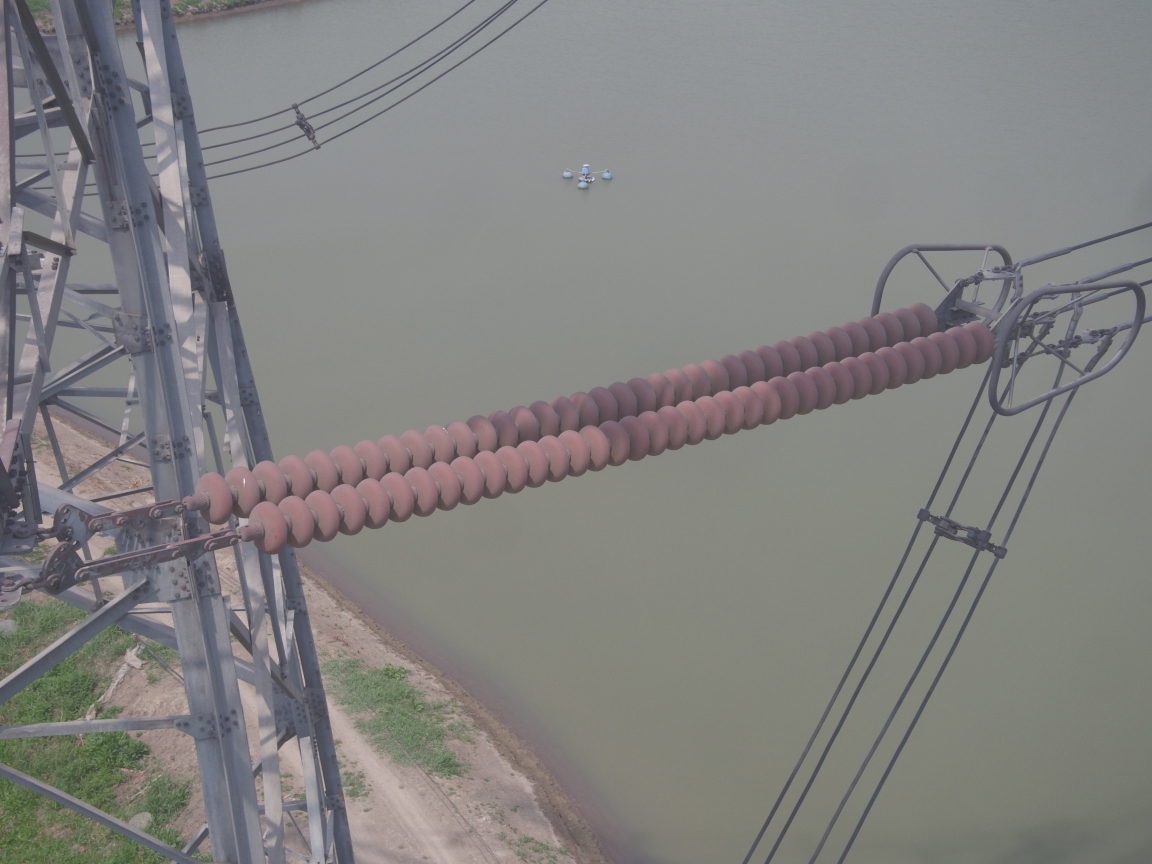insulator: (157, 296, 1004, 561)
